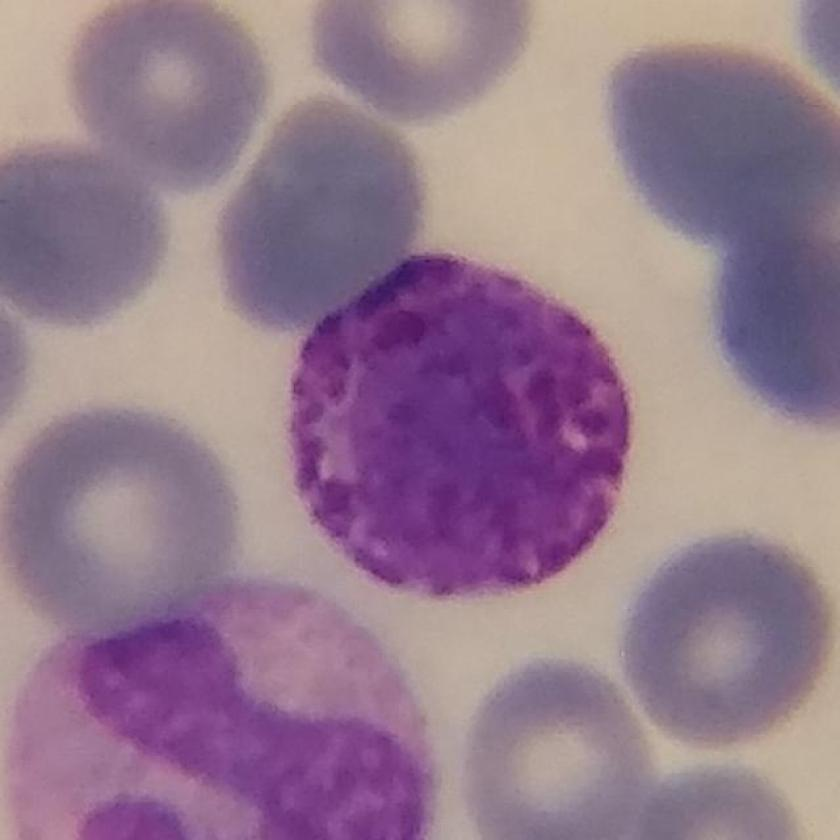basophil: (287, 243, 640, 605)
